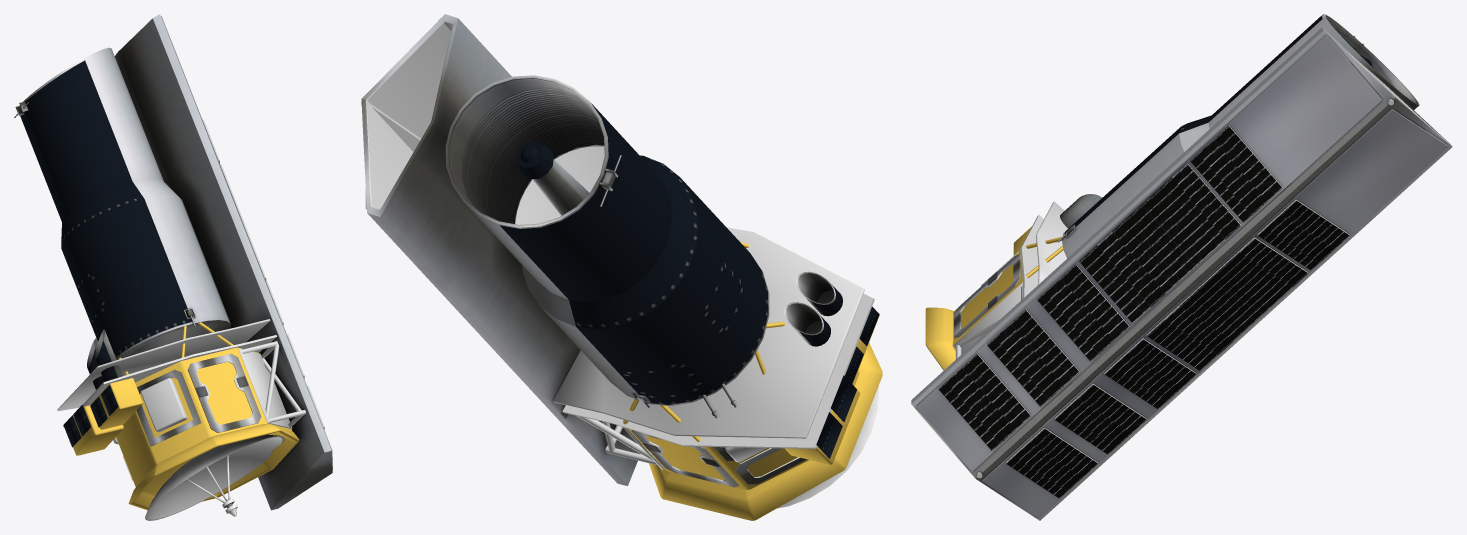
Rendered from spitzer.glb.
3 renders of one model, left to right at view 1: azimuth 30°, elevation 25°; view 2: azimuth 150°, elevation 25°; view 3: azimuth 270°, elevation 25°, orthographic. The views are drawn at different scales.
Visible parts, largest first — view 1: BUS, gold_foil, silver_foil, BUS.001, BUS.002, foil_platform; view 2: BUS, silver_foil, gold_foil, BUS.002, foil_platform, BUS.001; view 3: BUS, gold_foil, silver_foil, foil_platform, BUS.002.
Boxes of the visible parts, <box> form: BUS: <box>14,14,332,516</box>; gold_foil: <box>73,322,299,510</box>; silver_foil: <box>57,319,305,444</box>; BUS.001: <box>145,434,284,520</box>; BUS.002: <box>61,178,180,243</box>; foil_platform: <box>63,335,276,427</box>; BUS: <box>361,14,879,487</box>; silver_foil: <box>553,227,864,469</box>; gold_foil: <box>623,242,882,520</box>; BUS.002: <box>521,155,697,329</box>; foil_platform: <box>562,293,874,448</box>; BUS.001: <box>777,386,879,508</box>; BUS: <box>911,14,1452,520</box>; gold_foil: <box>925,226,1063,370</box>; silver_foil: <box>953,201,1067,359</box>; foil_platform: <box>1020,215,1043,298</box>; BUS.002: <box>1179,115,1211,151</box>.
Bounding box in the file's own units: 45.87 × 87.66 × 87.66.
8 materials, 5 textured.
